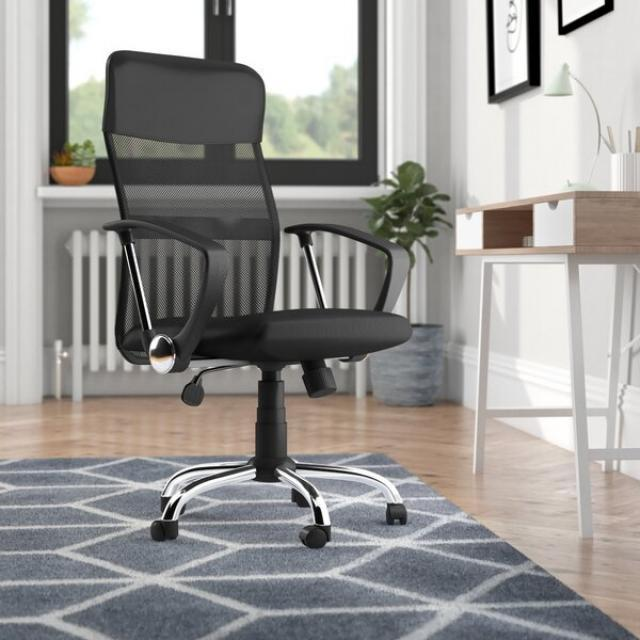chair: (90, 39, 409, 514)
light: (541, 65, 604, 177)
table: (35, 181, 400, 397), (451, 203, 640, 530)
